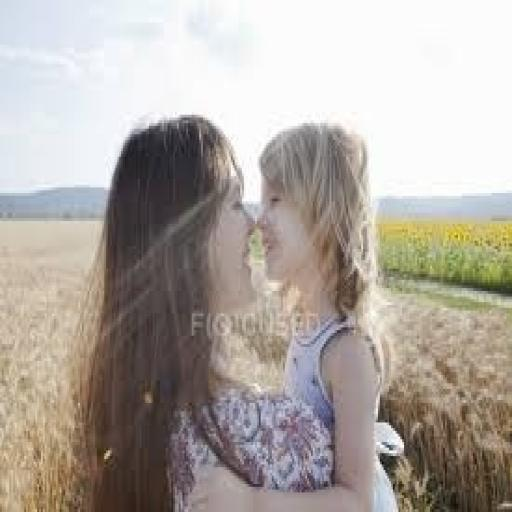hugging: (72, 109, 396, 509)
